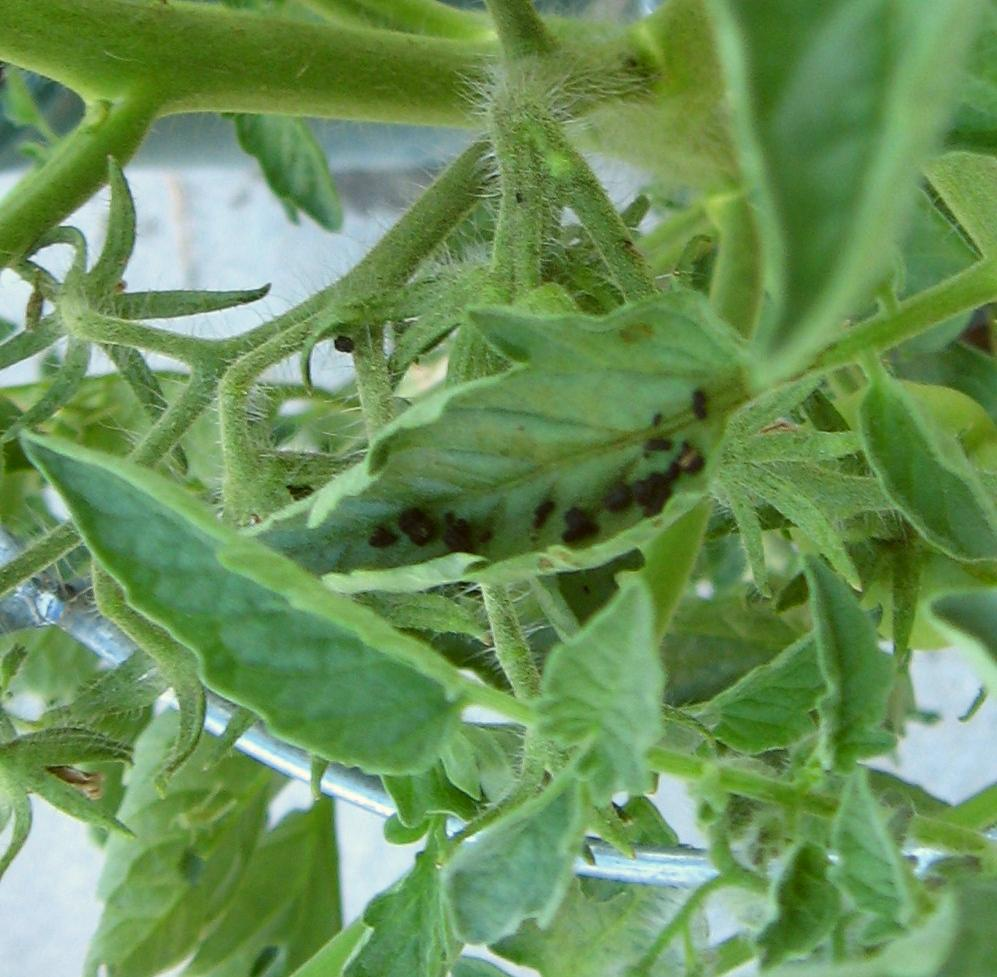Tomato leaf: (12, 431, 491, 764)
